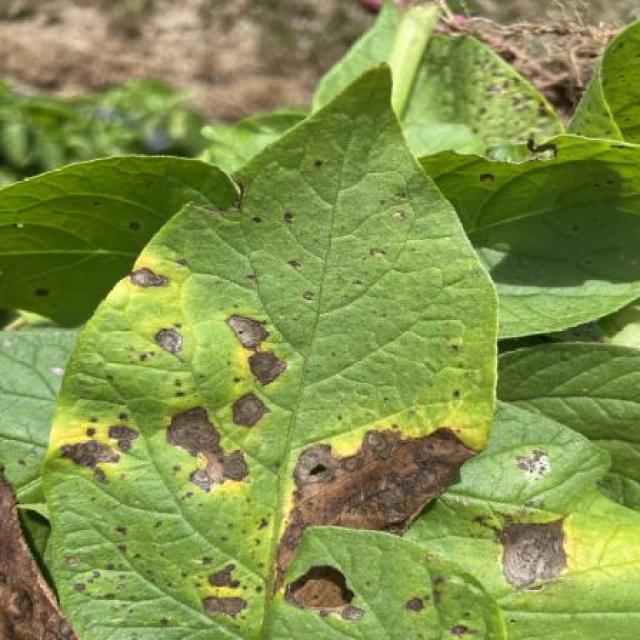Early Blight: (51, 54, 502, 640)
